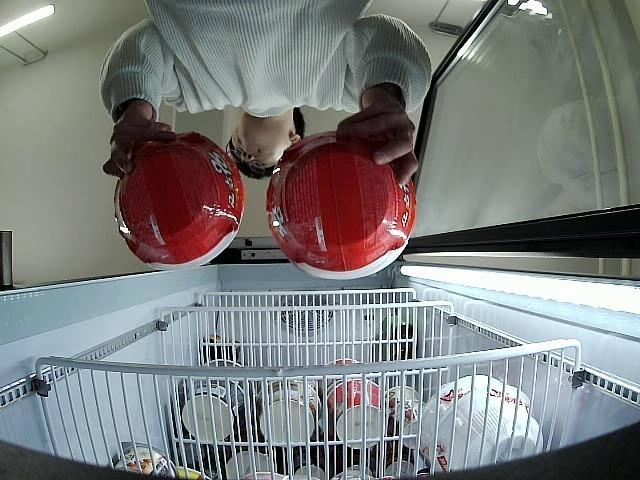10_wangTtukkeong: (268, 134, 415, 282), (115, 132, 244, 268)
